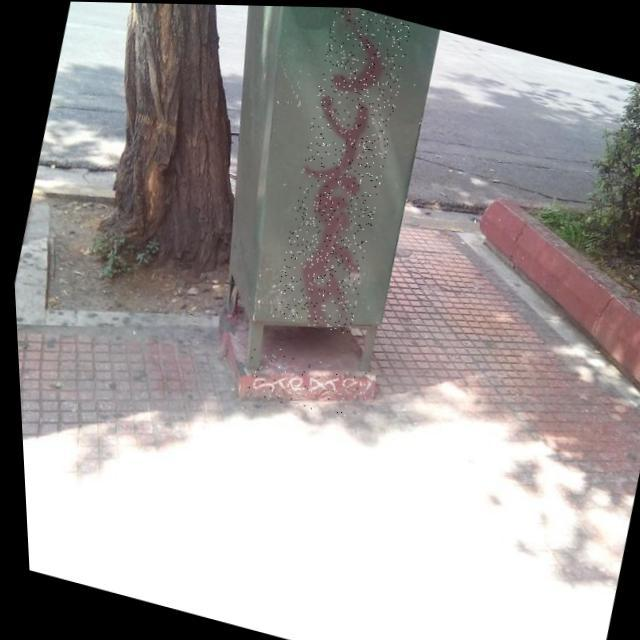-: (256, 4, 424, 337), (238, 341, 374, 424)
